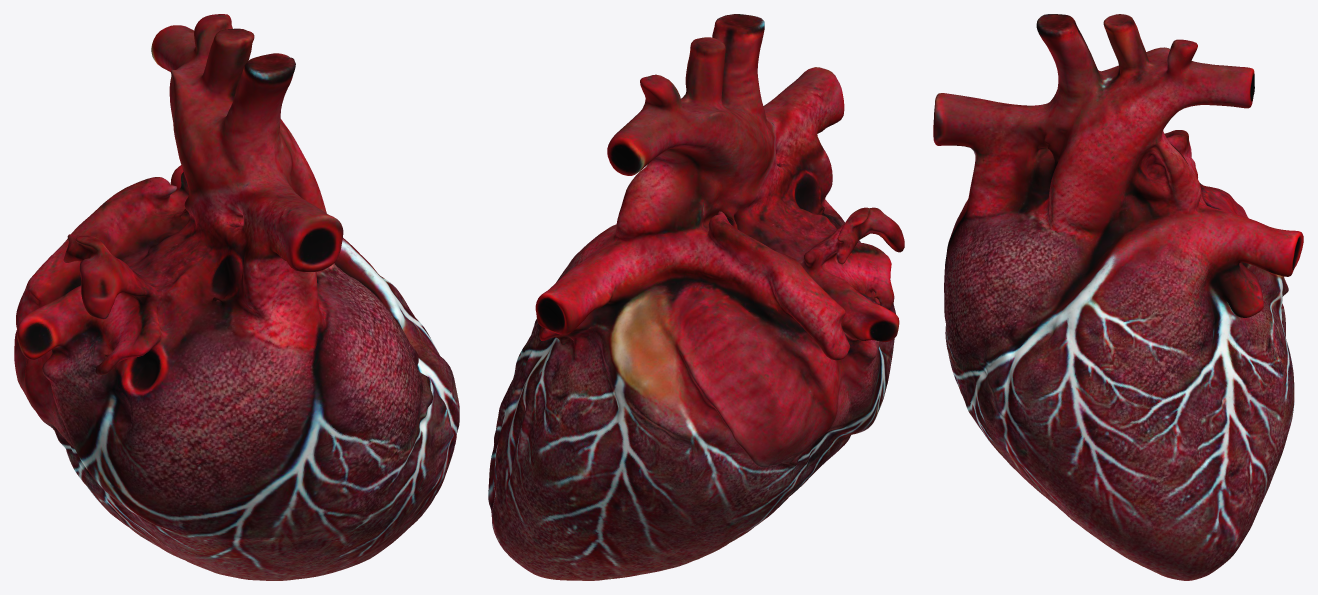
The model's file is heart.glb.
3 renders of one model, left to right at view 1: azimuth 30°, elevation 25°; view 2: azimuth 150°, elevation 25°; view 3: azimuth 270°, elevation 25°, orthographic. The views are drawn at different scales.
Visible parts, largest first — view 1: high_poly; view 2: high_poly; view 3: high_poly.
Part boxes in pixels (bbox=[...]): high_poly: bbox=[14, 14, 459, 580]; high_poly: bbox=[488, 14, 904, 580]; high_poly: bbox=[933, 14, 1303, 580].
Bounding box in the file's own units: 0.7359 × 1 × 0.6659.
Materials: 1 (1 with a texture image).
